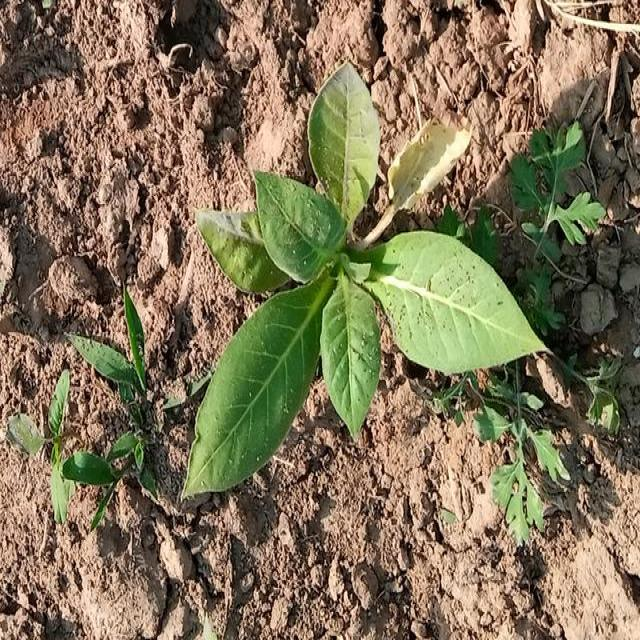crop: (190, 76, 540, 505)
